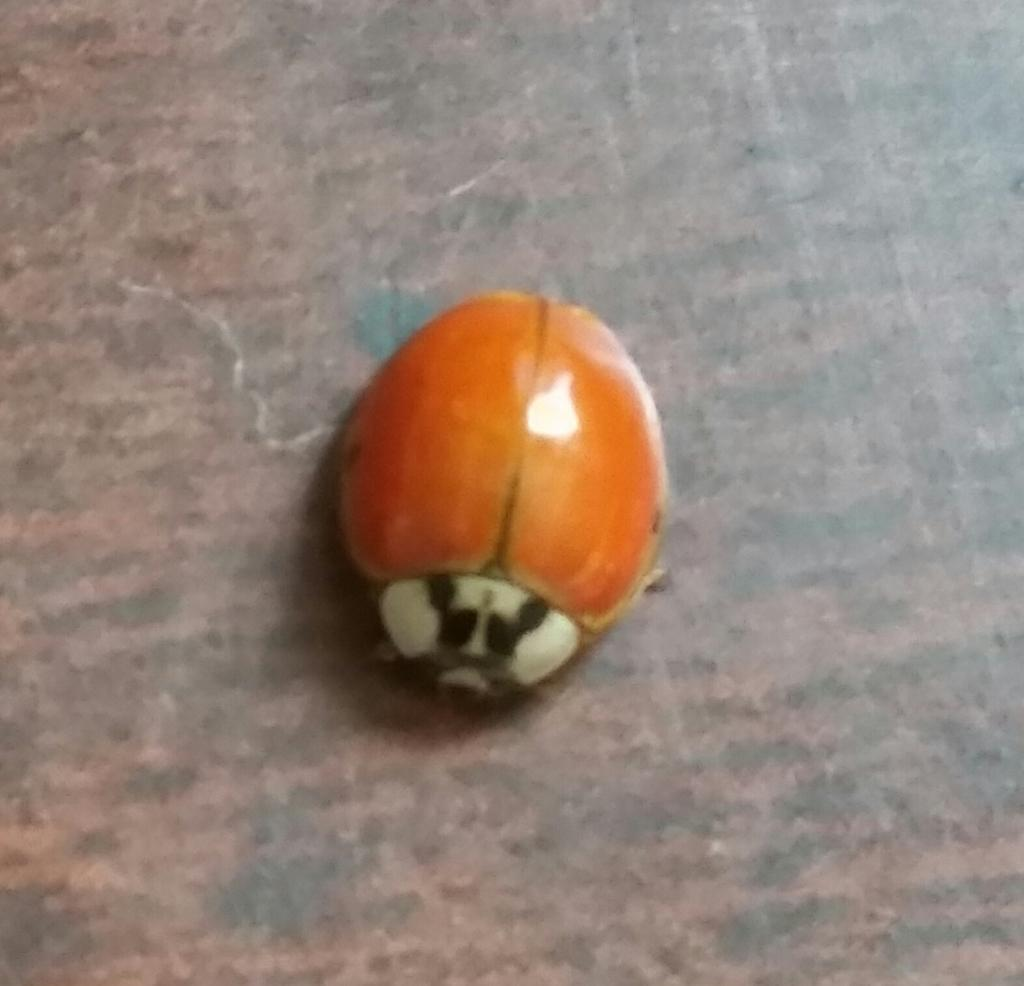ladybug: (331, 289, 676, 709)
